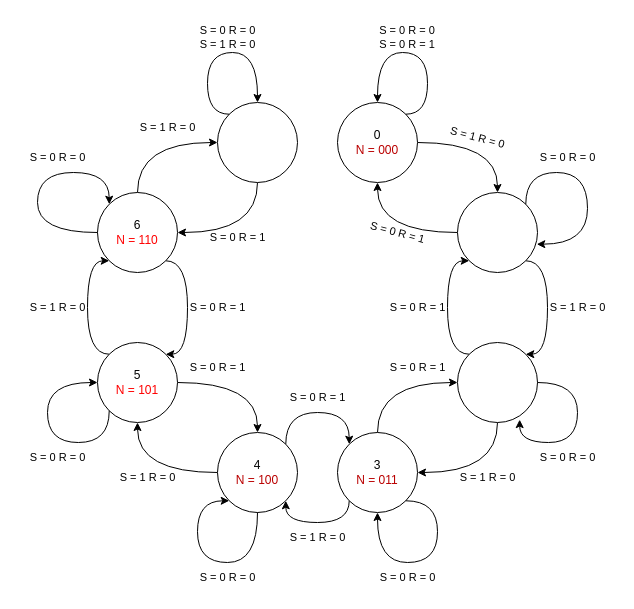
Some shapes in this 634 by 609 pixel diagram are drawn without their labels. Here are the shapes that lost their labels. From the top down, the centre of each, then its label:
At (257,142): "7 N = 111".
At (497,232): "1 N = 001".
At (497,382): "2 N = 010".
